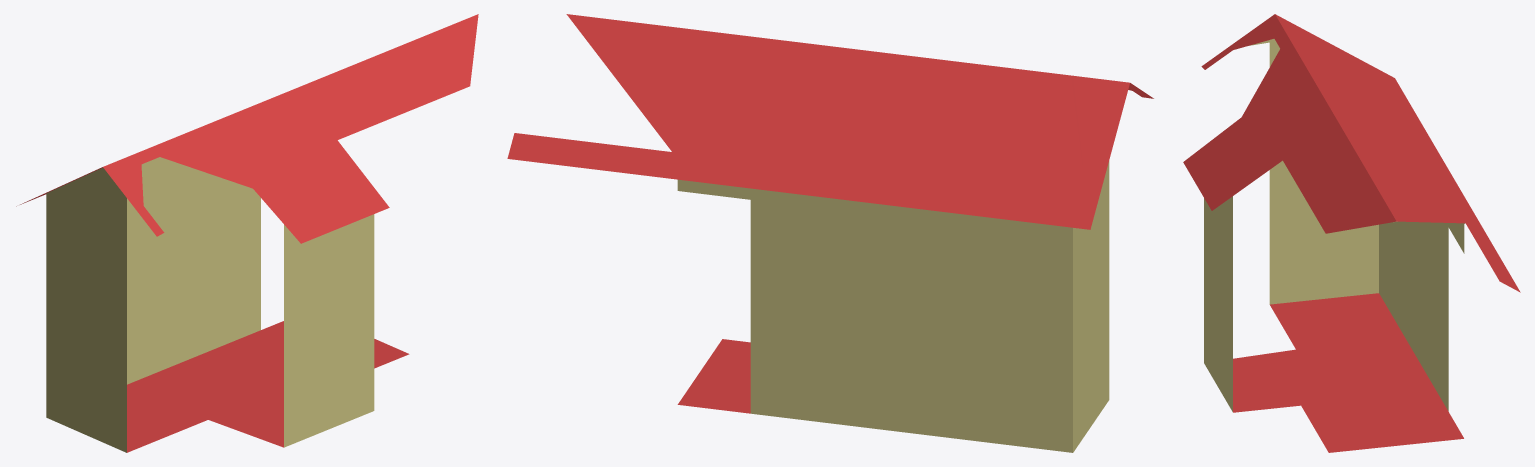
3 renders of one model, left to right at view 1: azimuth 30°, elevation 25°; view 2: azimuth 150°, elevation 25°; view 3: azimuth 270°, elevation 25°, orthographic. The views are drawn at different scales.
Size of the model in its own units: 23.83 by 15.45 by 14.16.
